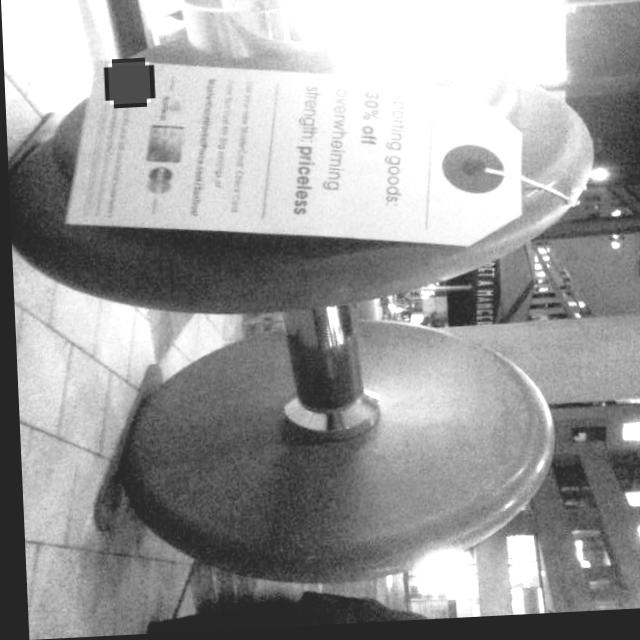qr_code: (106, 63, 149, 106)
